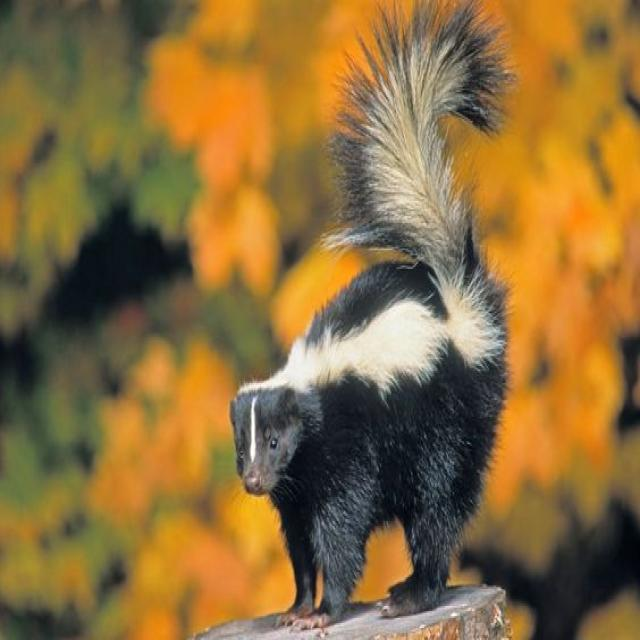Skunk: (217, 55, 538, 616)
